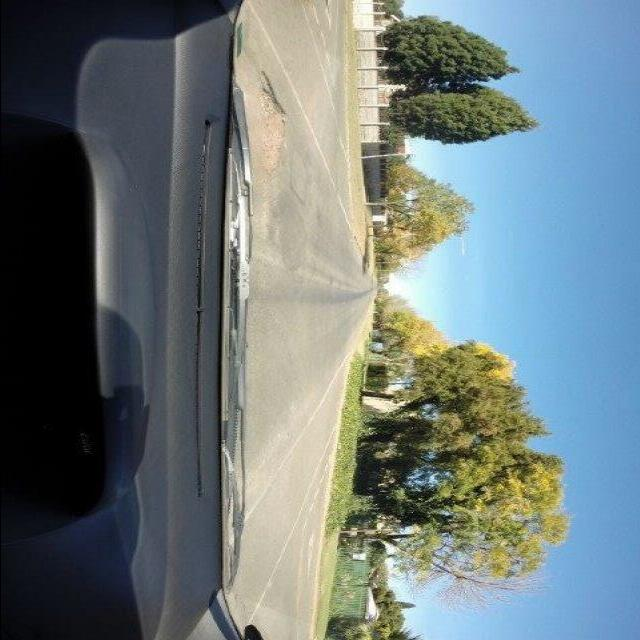lubang: (247, 56, 296, 172)
